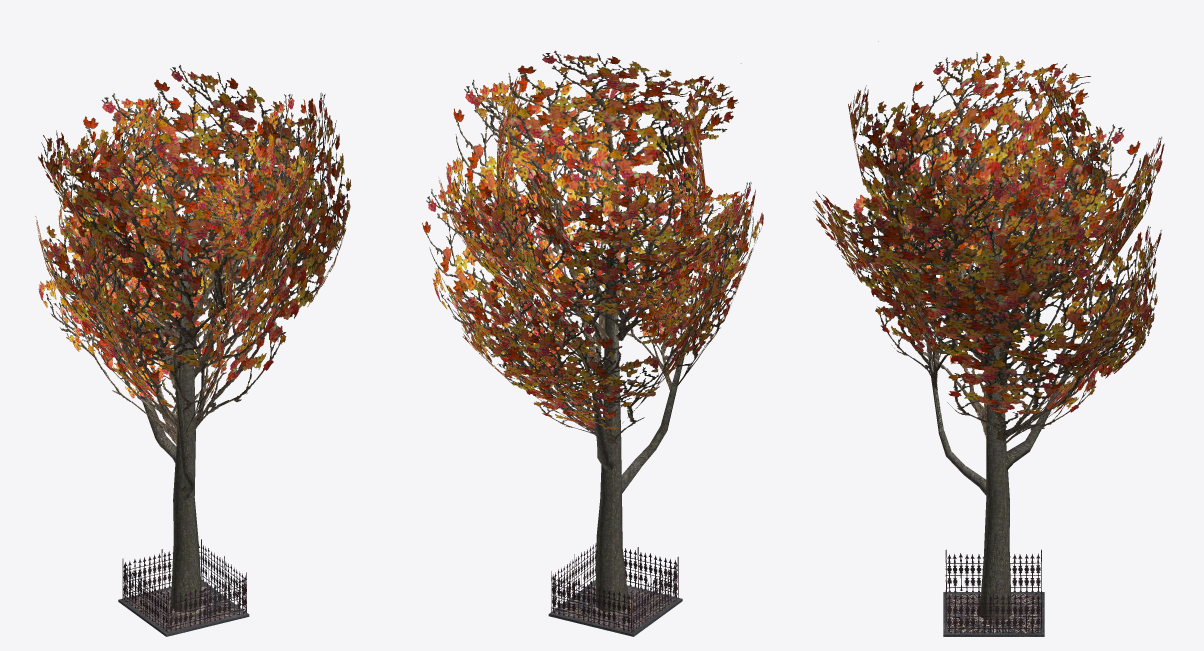
The model's file is tree3d_base_leaves.fbx.
3 renders of one model, left to right at view 1: azimuth 30°, elevation 25°; view 2: azimuth 150°, elevation 25°; view 3: azimuth 270°, elevation 25°, orthographic. The views are drawn at different scales.
Parts seen in each view (by area): view 1: mesh_1, mesh_2, mesh_3, mesh_0; view 2: mesh_1, mesh_2, mesh_3, mesh_0; view 3: mesh_1, mesh_2, mesh_3, mesh_0.
Part boxes in pixels (box(x1,y1,x2,y2)): mesh_1: box(35, 65, 351, 445); mesh_2: box(114, 248, 201, 612); mesh_3: box(122, 539, 246, 632); mesh_0: box(118, 580, 249, 636); mesh_1: box(422, 50, 763, 444); mesh_2: box(592, 235, 696, 612); mesh_3: box(551, 543, 678, 632); mesh_0: box(548, 580, 682, 636); mesh_1: box(812, 41, 1164, 446); mesh_2: box(922, 229, 1091, 620); mesh_3: box(945, 549, 1041, 633); mesh_0: box(943, 592, 1044, 636).
Bounding box in the file's own units: 718 × 1229 × 763.
4 materials, 4 textured.
